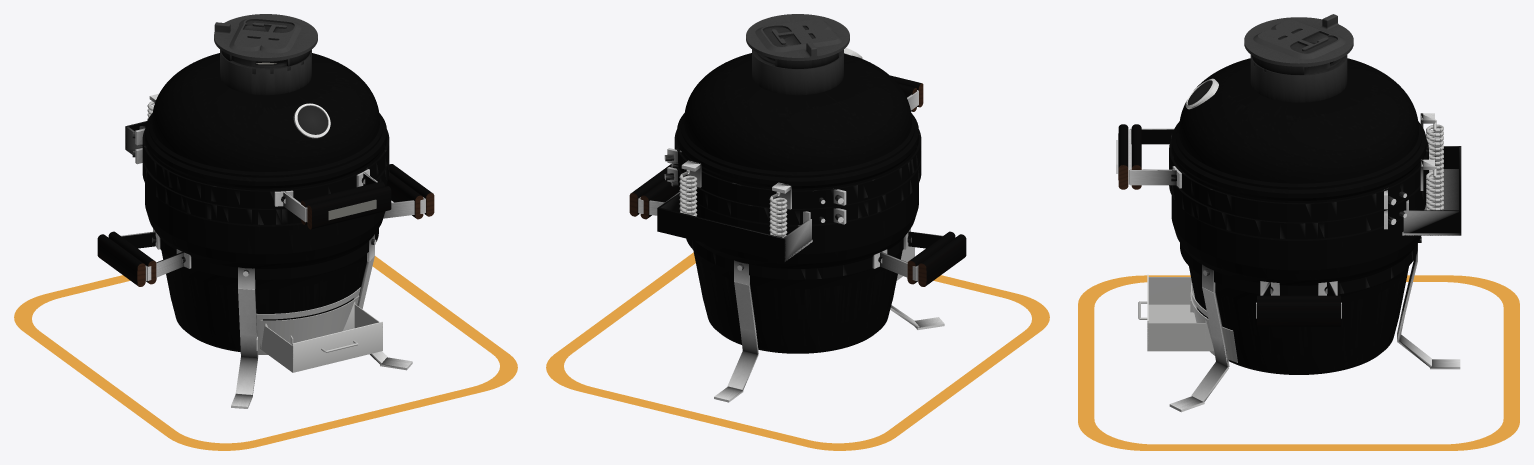
The model's file is grill-bill-pro-3-medium-16-v12.glb.
The picture shows the model from 3 angles, left to right: view 1: azimuth 30°, elevation 25°; view 2: azimuth 150°, elevation 25°; view 3: azimuth 270°, elevation 25°; orthographic projection. The views are drawn at different scales.
Visible parts, largest first — view 1: base, lid; view 2: base, lid; view 3: base, lid.
Part boxes in pixels (<box>): base: <box>14,101,517,450</box>; lid: <box>132,14,391,229</box>; base: <box>546,145,1049,450</box>; lid: <box>664,14,923,209</box>; base: <box>1078,119,1519,450</box>; lid: <box>1116,14,1434,219</box>.
Size of the model in its own units: 0.6441 by 0.5715 by 0.6853.
Materials: 20 (7 with a texture image).
